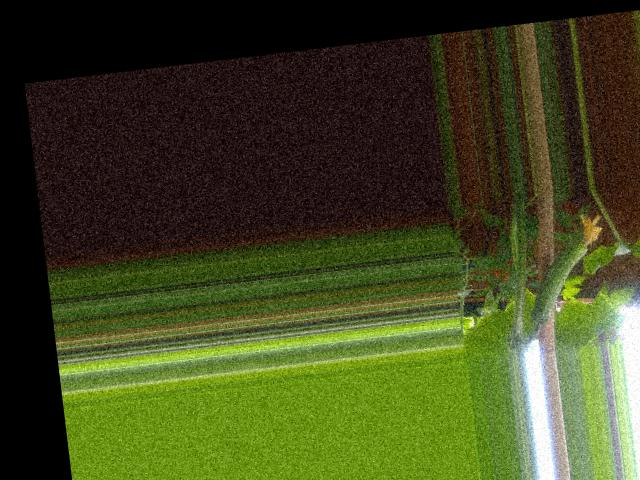cucumber: (521, 210, 614, 324)
